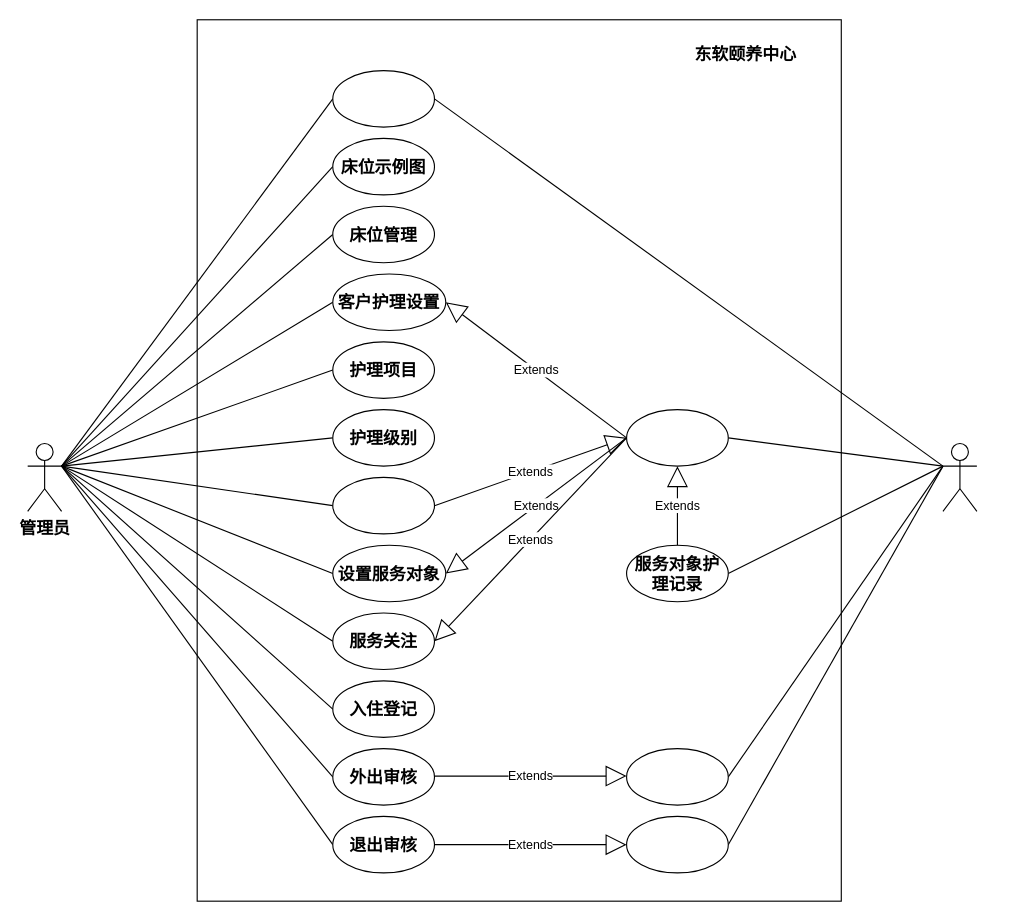
Some shapes in this 1014 by 921 pixel diagram are drawn without their labels. Each missing label, with the box of its shape:
健康管家: (942, 442, 977, 511)
外出申请: (625, 747, 728, 805)
护理记录: (332, 476, 434, 534)
日常护理: (625, 408, 728, 466)
登录: (332, 69, 434, 127)
退出申请: (625, 815, 728, 873)
